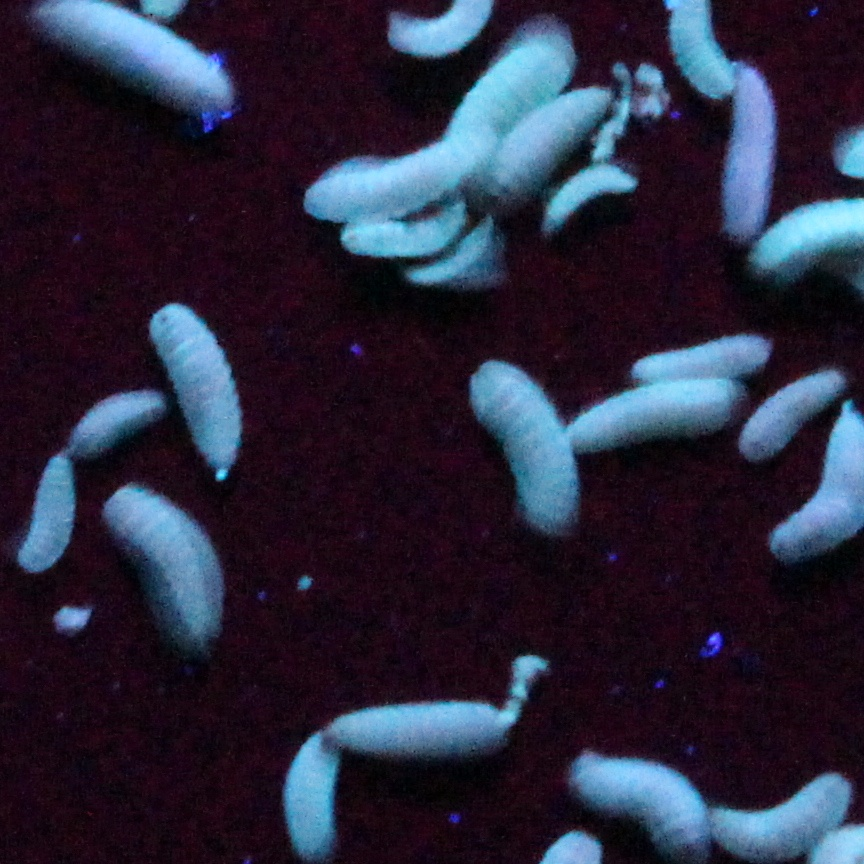larve: (462, 353, 575, 546), (102, 506, 228, 646), (477, 82, 622, 202), (142, 306, 242, 473), (719, 760, 855, 863), (299, 148, 482, 220), (568, 760, 702, 846), (328, 693, 495, 753), (588, 386, 735, 453), (54, 374, 165, 462), (735, 60, 782, 266), (743, 375, 846, 462), (630, 326, 775, 381), (22, 451, 71, 593), (342, 214, 468, 260), (548, 182, 631, 234)
